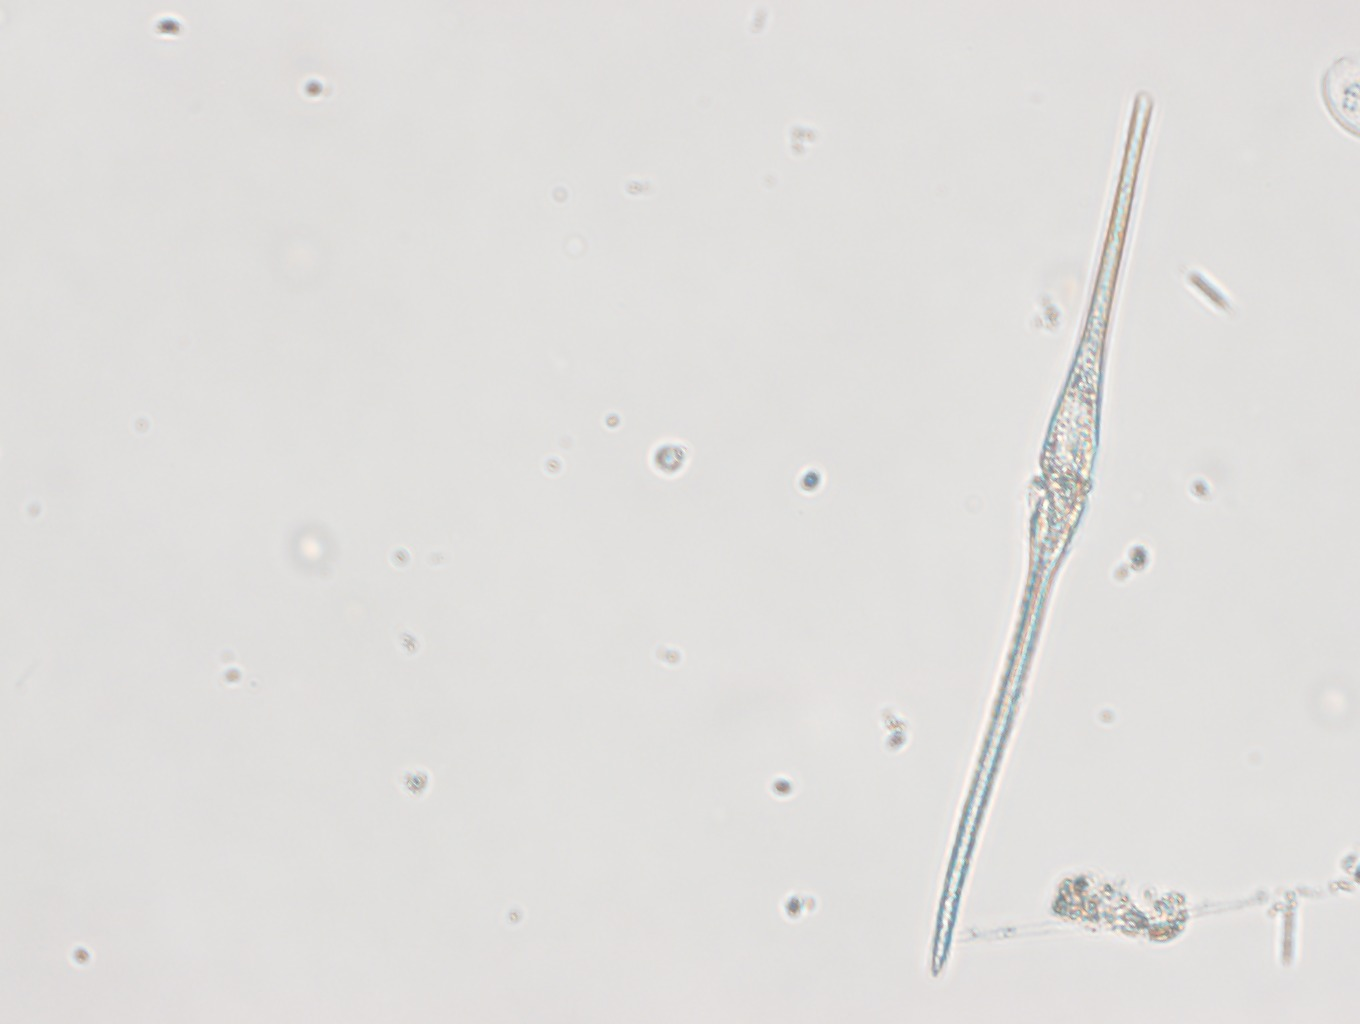ceratium fusus: (929, 91, 1153, 978)
